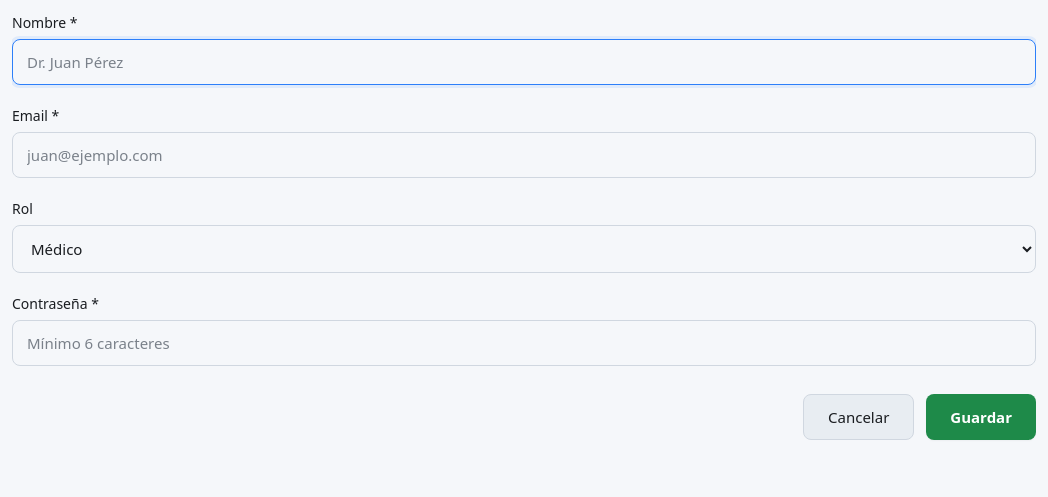
Test: MedicoForm › shows validation error when password is empty in create mode
Type "Dr. Test" into the field labelled "Nombre *". click: (524, 62)
box: [12,39,1036,85]
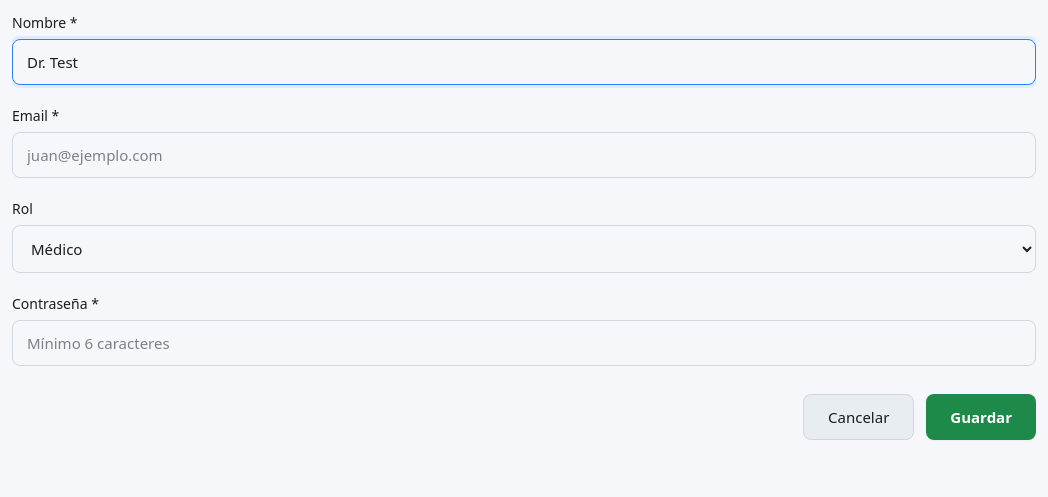
Type "test@test.com" into the field labelled "Email *". click: (524, 155)
box: [12,132,1036,178]
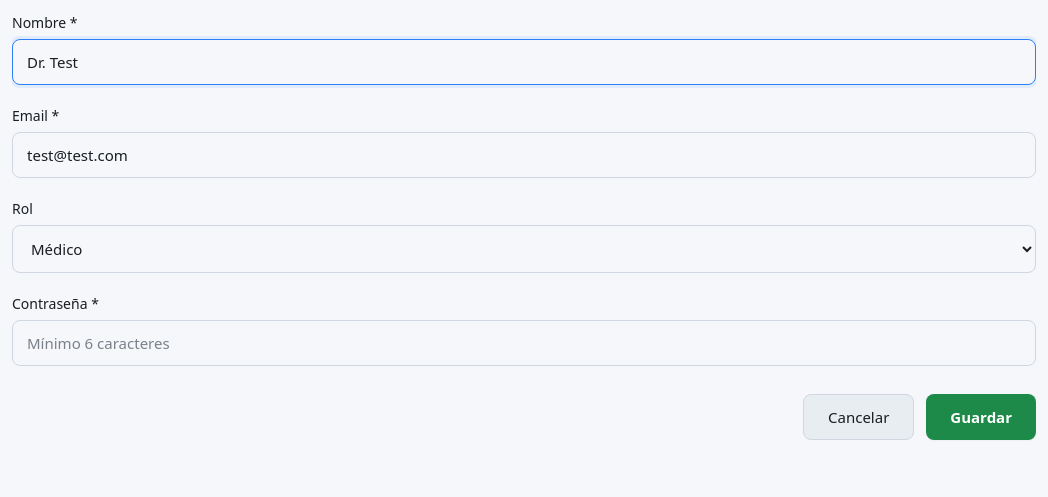
Submit the form with test id "medico-form"
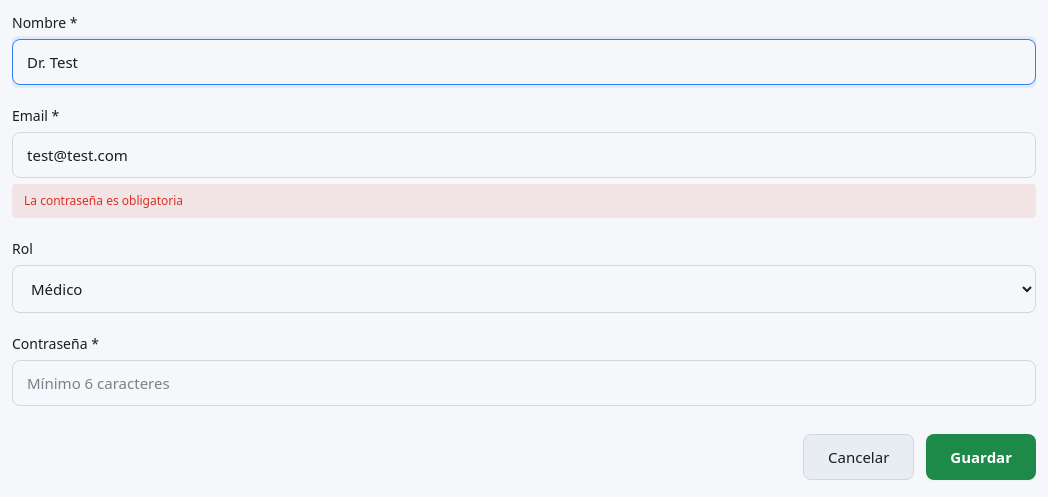
Now the text "La contraseña es obligatoria" is shown, box [12,184,1036,218]
